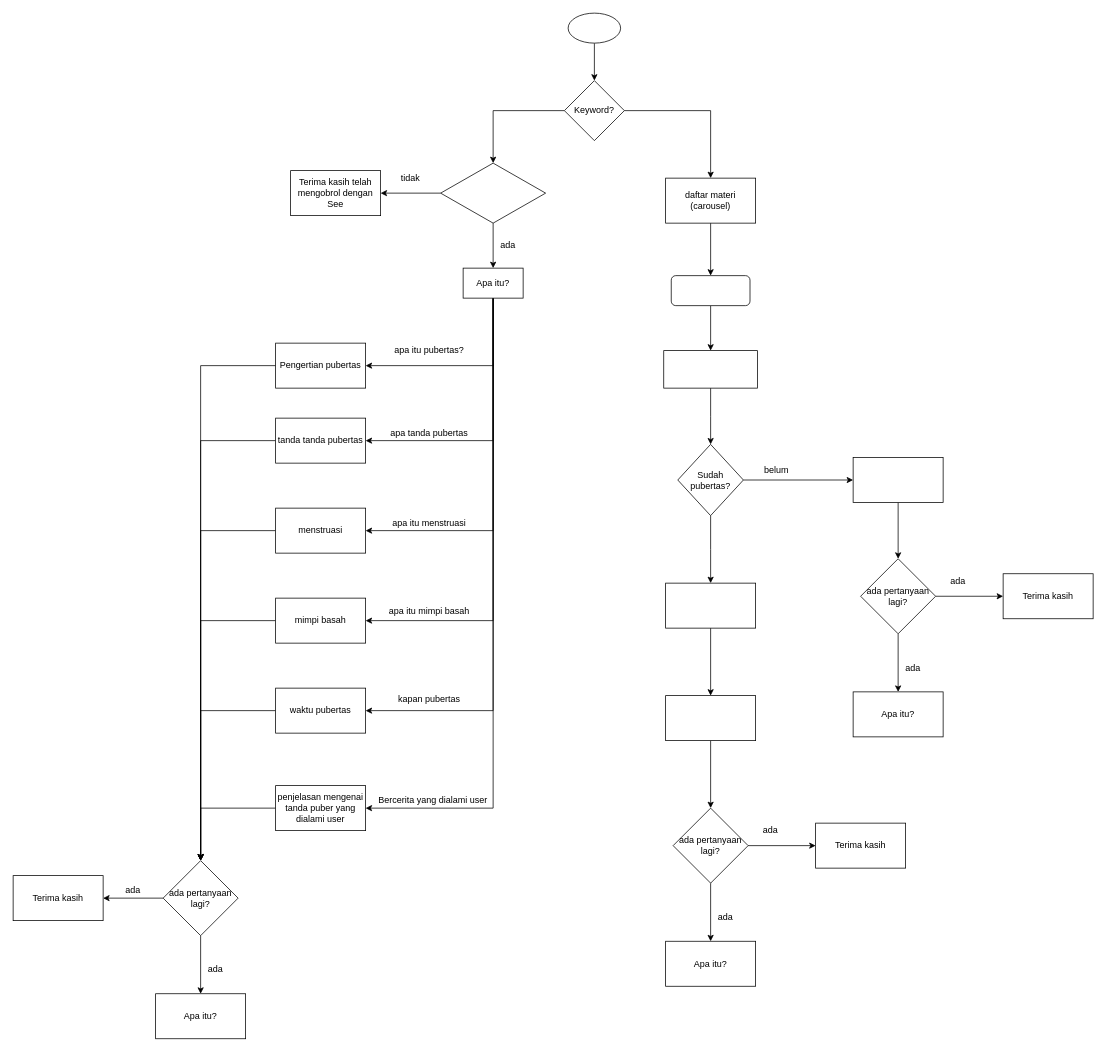
The diagram is 1106 pixels wide and 1052 high, and some of its shapes have lost their labels. The box of each missing label's shape, as (x1, y1, x2, y2) in pixels:
ada yang ditanyakan?: (440, 162, 546, 223)
apa yang kamu alami?: (665, 582, 756, 628)
penjelasan pubertas: (663, 350, 758, 388)
pubertas: (670, 275, 750, 306)
start: (567, 12, 621, 43)
suatau saat bakal puber: (852, 457, 943, 502)
tanda - tanda pubertas: (665, 695, 756, 741)
